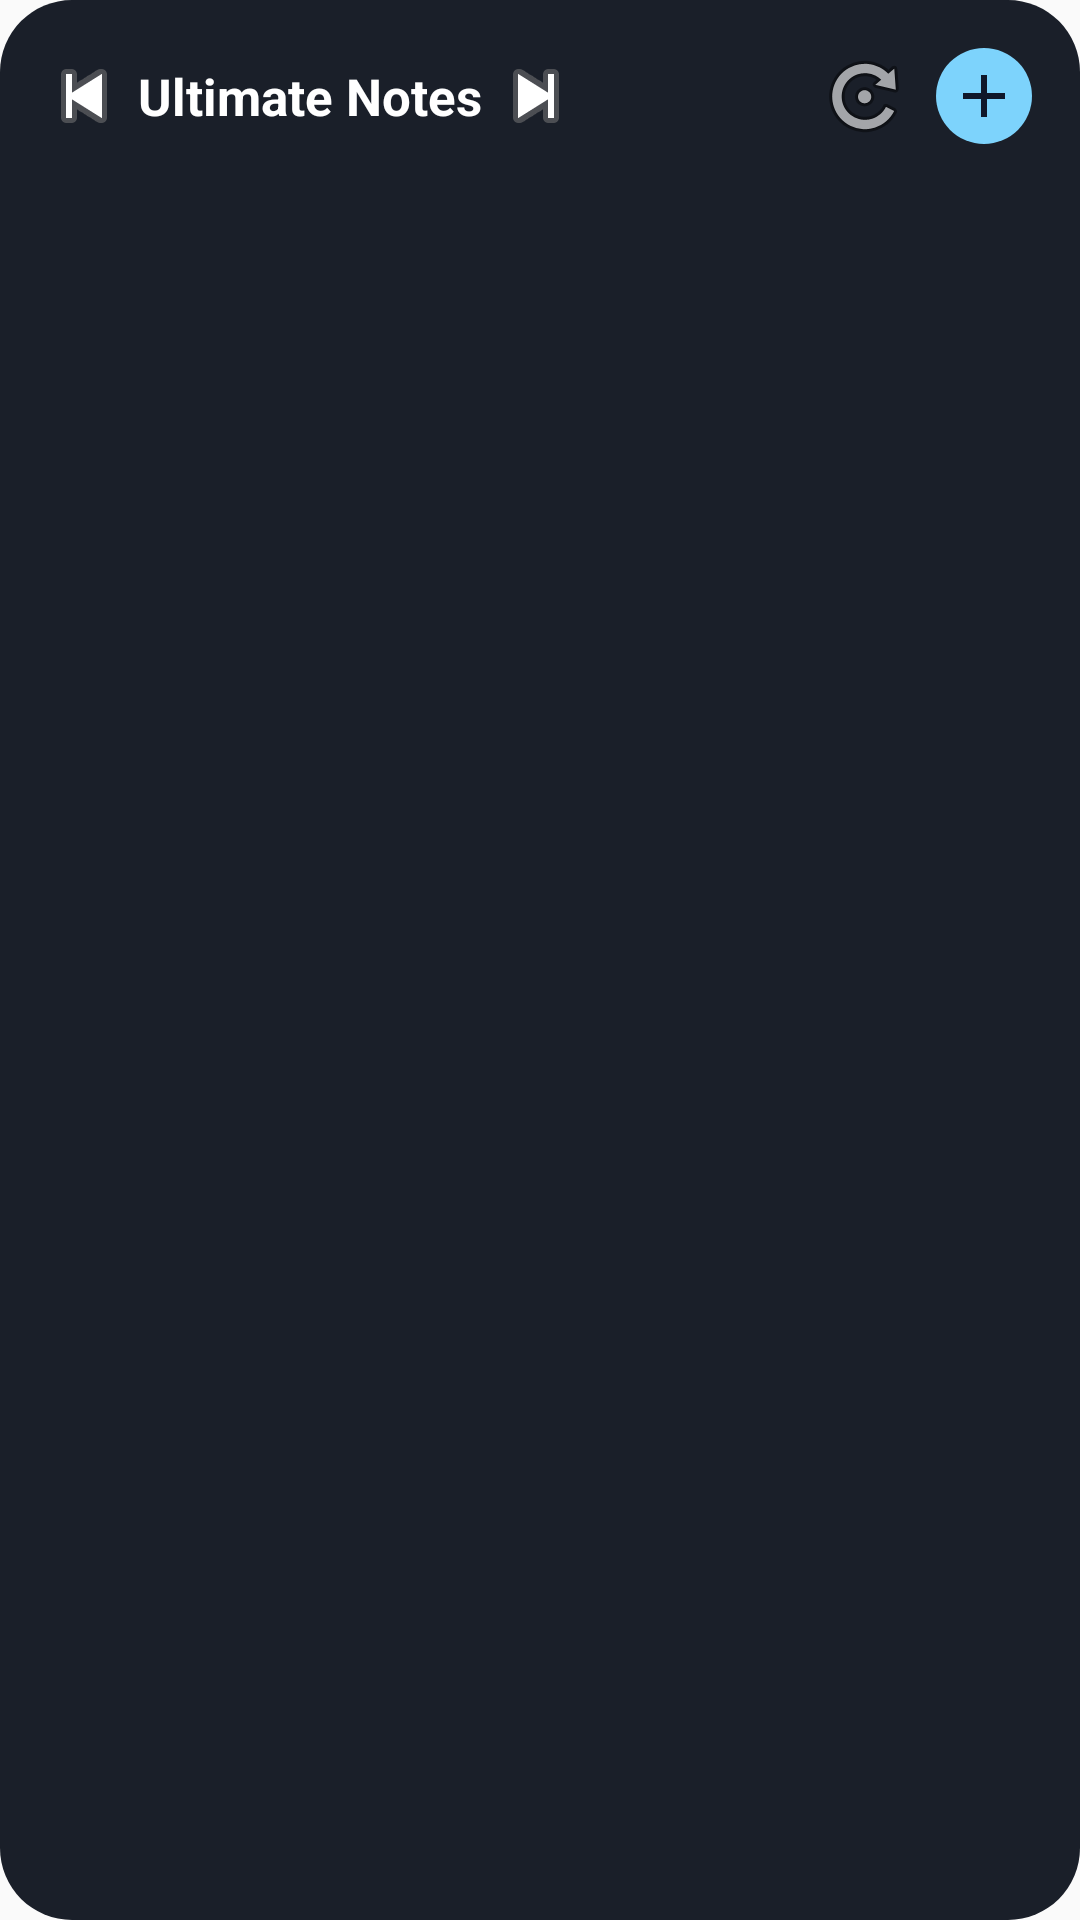

Icons on this 1080w x 1920h Android screen, each with its box as (x1, y1, x2, y2):
Add Item: (936, 48, 1032, 144)
Next: (513, 69, 559, 123)
Previous: (61, 69, 107, 123)
Refresh: (832, 63, 896, 130)
